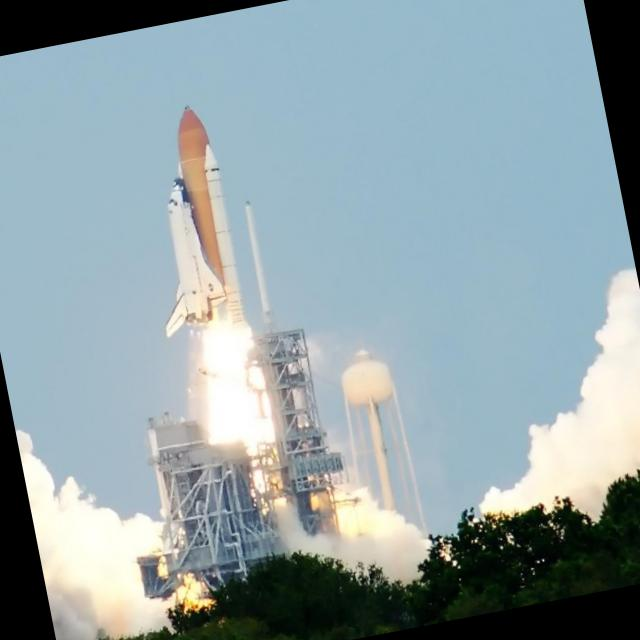rocket: (140, 93, 276, 470)
